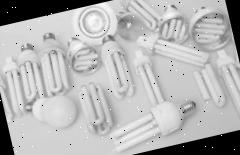lightbulb: (0, 0, 240, 155), (92, 42, 202, 153), (184, 1, 234, 54), (68, 0, 121, 49), (30, 90, 80, 133), (62, 32, 104, 78), (153, 0, 193, 47), (113, 7, 148, 44)
